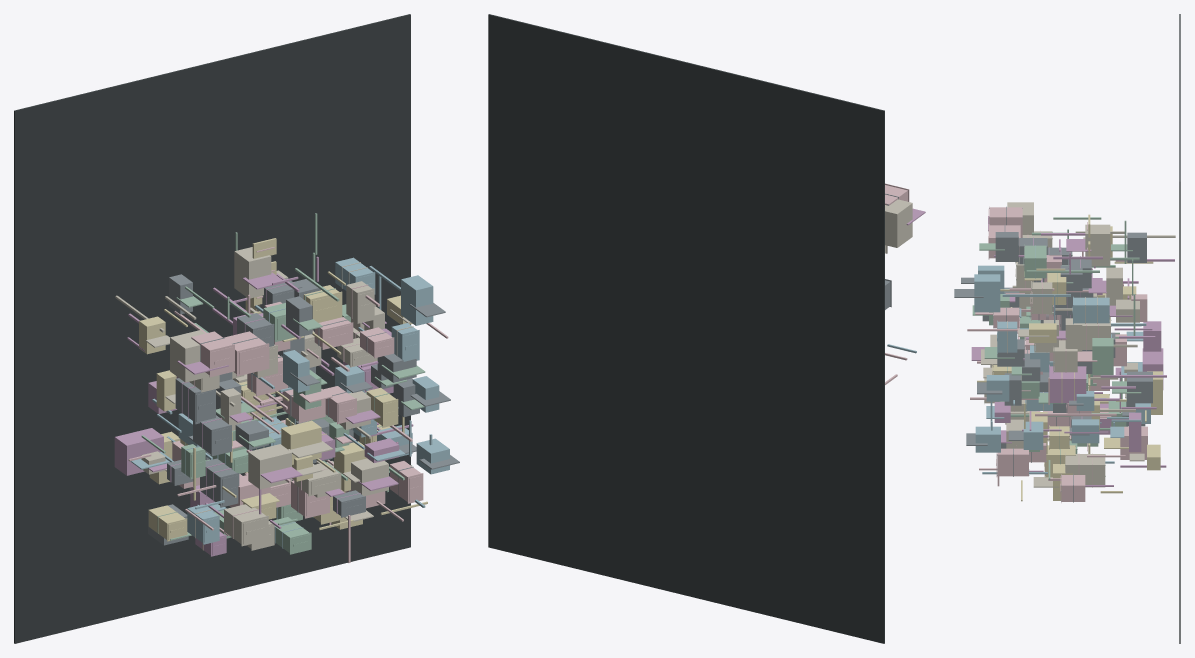
3 views of the same model, side by side, from view 1: azimuth 30°, elevation 25°; view 2: azimuth 150°, elevation 25°; view 3: azimuth 270°, elevation 25° (orthographic). The views are drawn at different scales.
Parts seen in each view (by area): view 1: void_floor, material_group_6, material_group_5, material_group_2, material_group_4, material_group_3, material_group_1, material_group_0; view 2: void_floor, material_group_6; view 3: material_group_6, material_group_3, material_group_5, material_group_2, material_group_1, material_group_4, material_group_0, void_floor.
Boxes of the visible parts, box(x1,y1,x2,y2) form: void_floor: box(14, 14, 410, 643); material_group_6: box(115, 247, 413, 550); material_group_5: box(148, 274, 459, 545); material_group_2: box(128, 247, 448, 562); material_group_4: box(139, 238, 427, 550); material_group_3: box(130, 257, 449, 548); material_group_1: box(114, 256, 413, 556); material_group_0: box(141, 213, 425, 554); void_floor: box(488, 14, 884, 643); material_group_6: box(885, 199, 912, 253); material_group_6: box(981, 202, 1175, 487); material_group_3: box(974, 208, 1150, 501); material_group_5: box(954, 206, 1152, 502); material_group_2: box(967, 206, 1147, 502); material_group_1: box(971, 216, 1174, 486); material_group_4: box(977, 214, 1162, 501); material_group_0: box(972, 217, 1141, 479); void_floor: box(1179, 14, 1180, 643).
Bounding box in the file's own units: 70 × 90 × 39.96.
